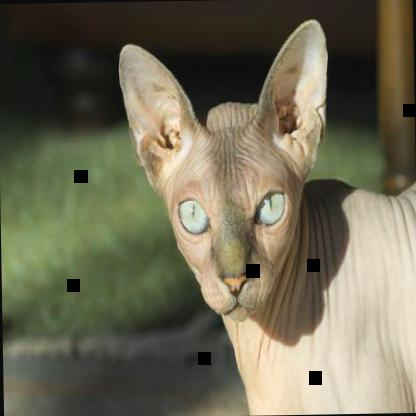cat: (116, 17, 415, 415)
